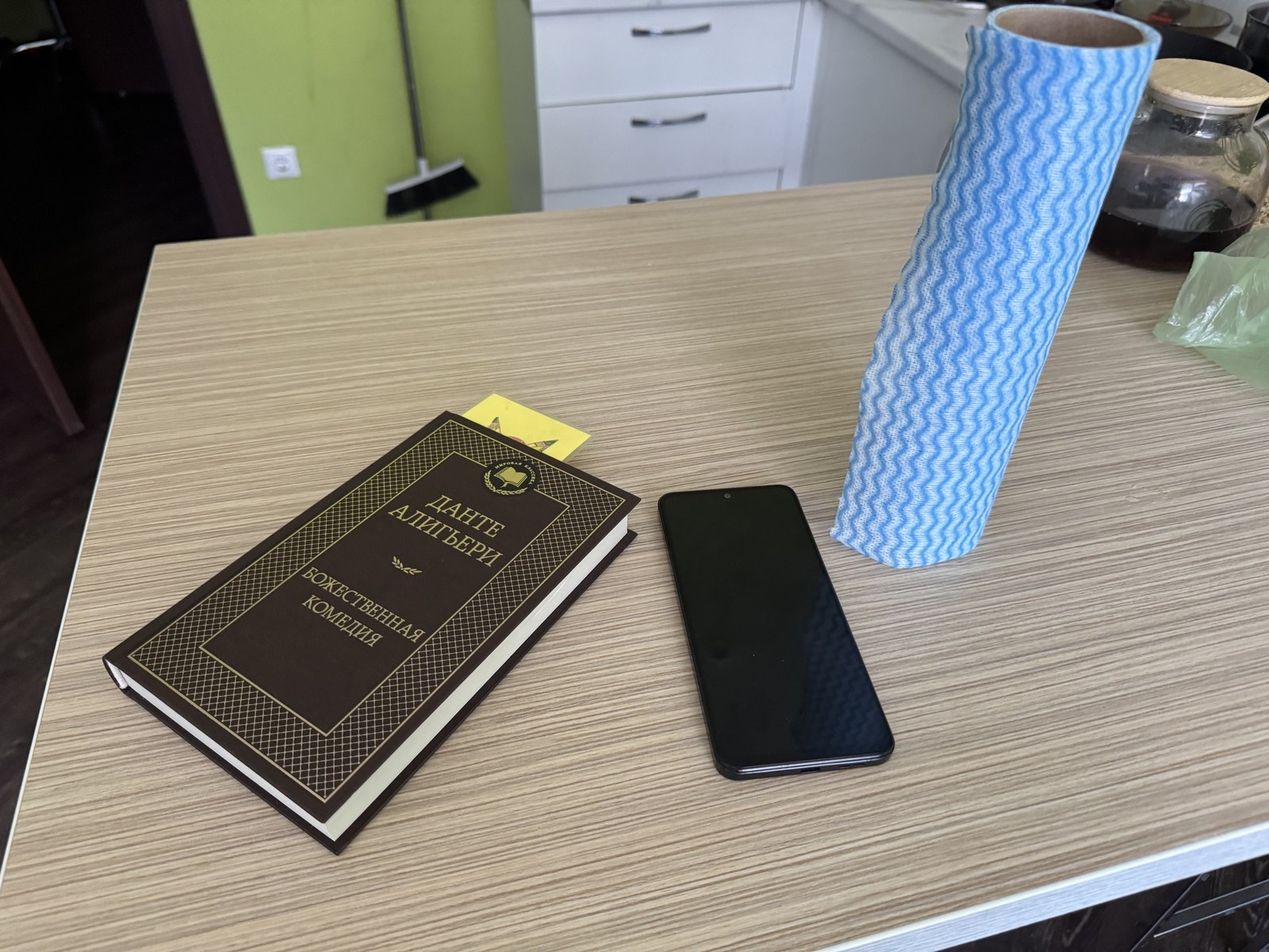cell phone: (657, 483, 895, 780)
